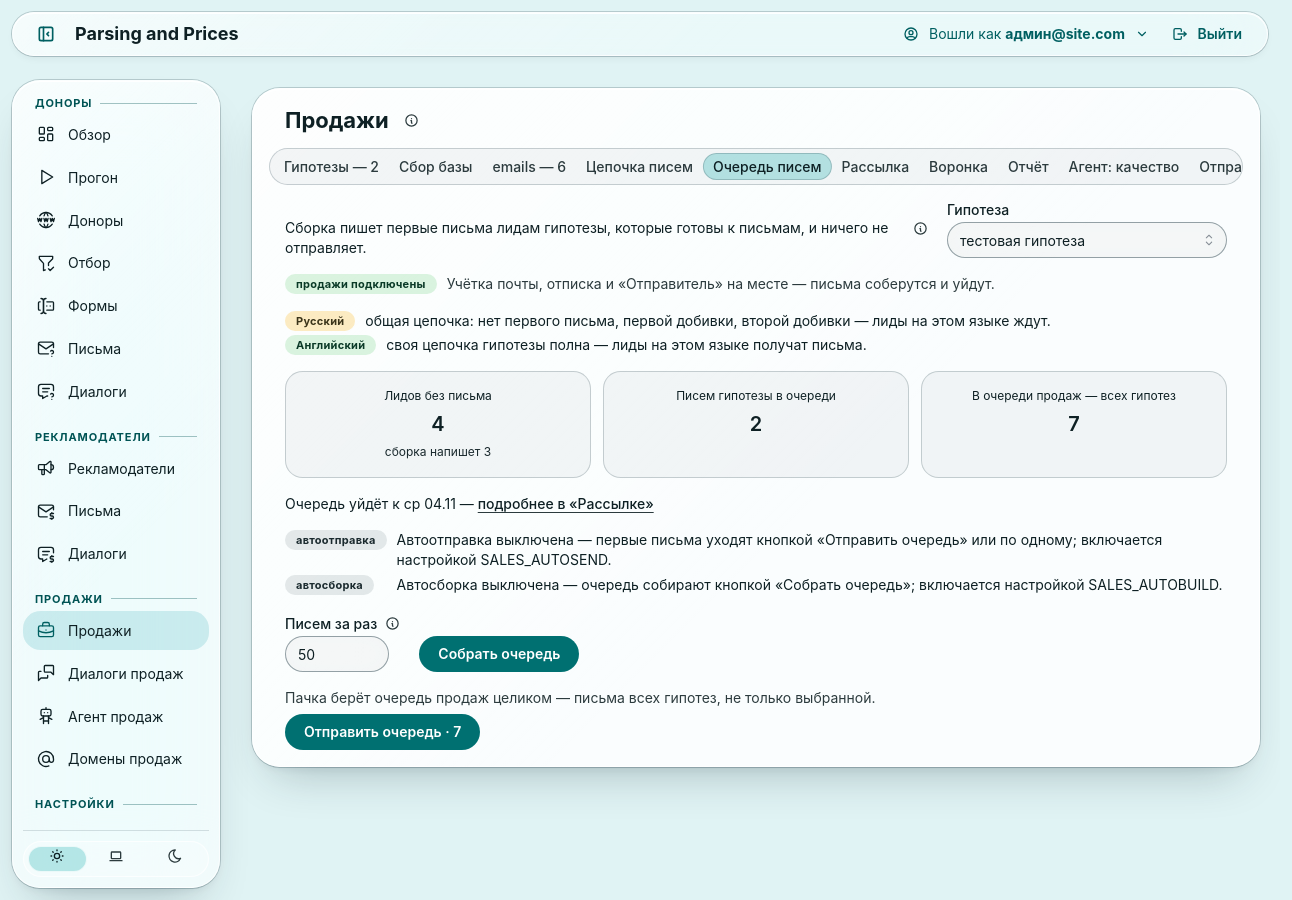
Test: очередь писем продаж › итог сборки прежней версии сервера без писем по одному — списка нет
This screenshot has width=1292, height=900.
expect the text "Лидов без письма" is shown: met, box left=384, top=388, right=492, bottom=405
Click the button "Собрать очередь" at (499, 654), box left=419, top=636, right=579, bottom=672
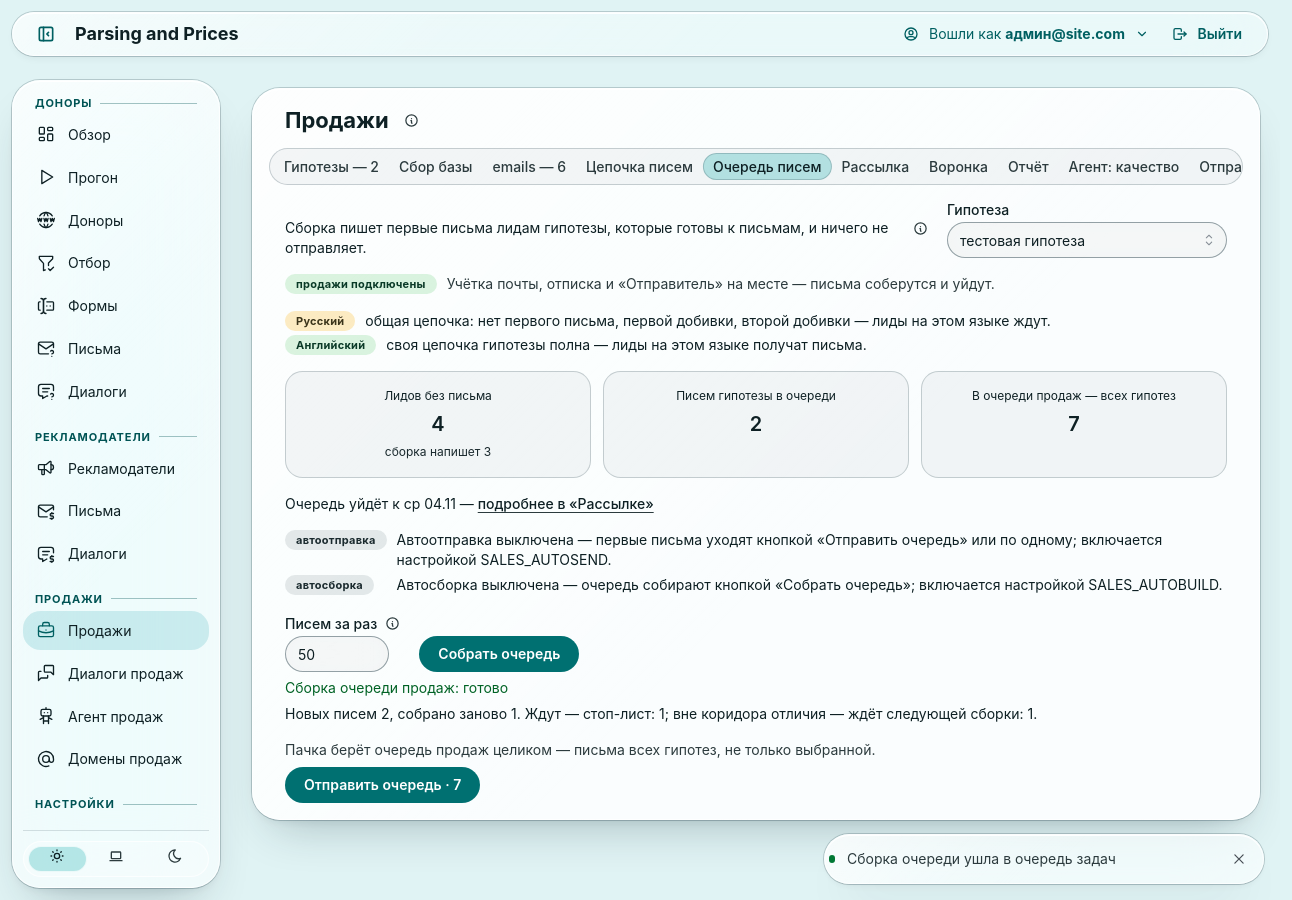
expect the text "Новых писем 2" is shown: met, box left=285, top=705, right=1037, bottom=722
